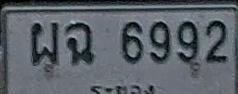2: (206, 20, 226, 62)
6: (121, 20, 143, 63)
9: (176, 20, 198, 63), (149, 20, 170, 62)
A09: (65, 22, 94, 64)
A28: (30, 21, 58, 66)
